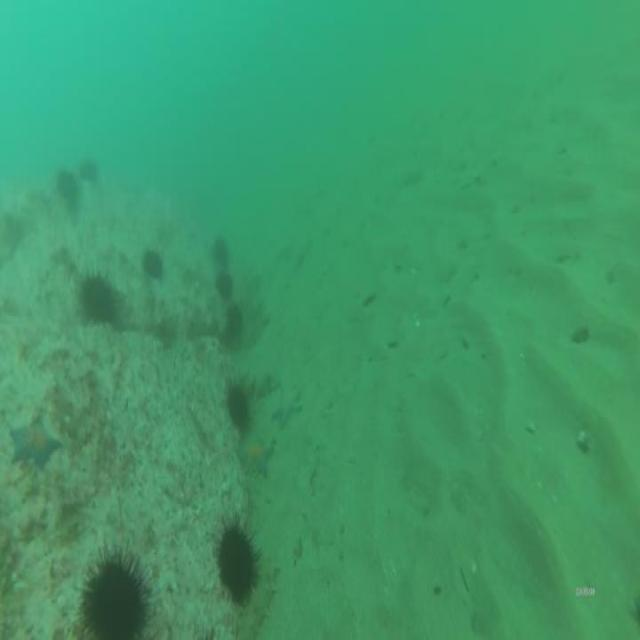echinus: (77, 545, 152, 640), (214, 515, 260, 607), (78, 267, 118, 322), (54, 162, 82, 214), (138, 248, 165, 291), (227, 382, 250, 430), (75, 152, 103, 186), (210, 230, 231, 266), (213, 269, 235, 300), (226, 304, 243, 338)
starfish: (8, 411, 62, 471), (271, 379, 302, 435), (241, 433, 274, 479)
